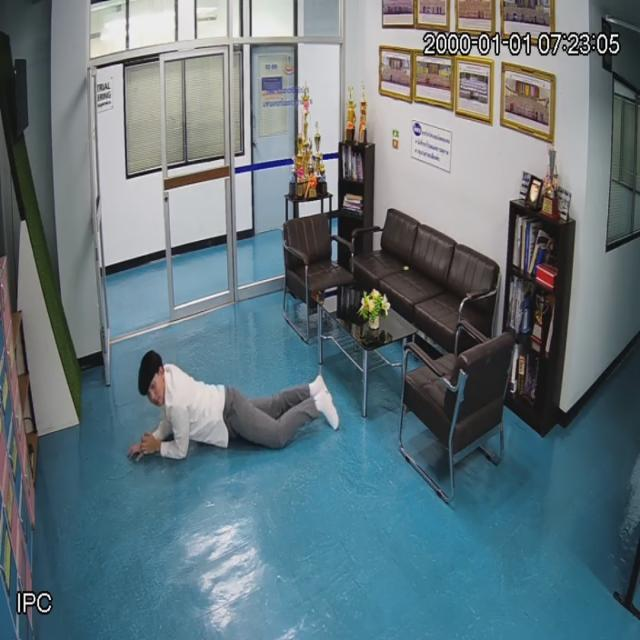fall: (128, 349, 324, 465)
